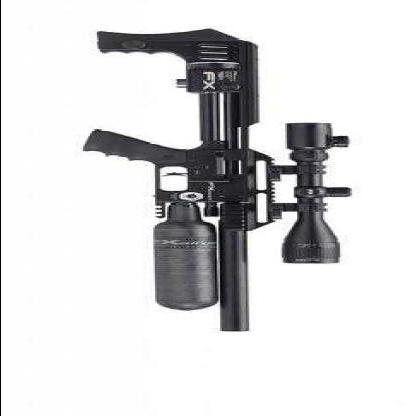rifle: (46, 19, 385, 368)
